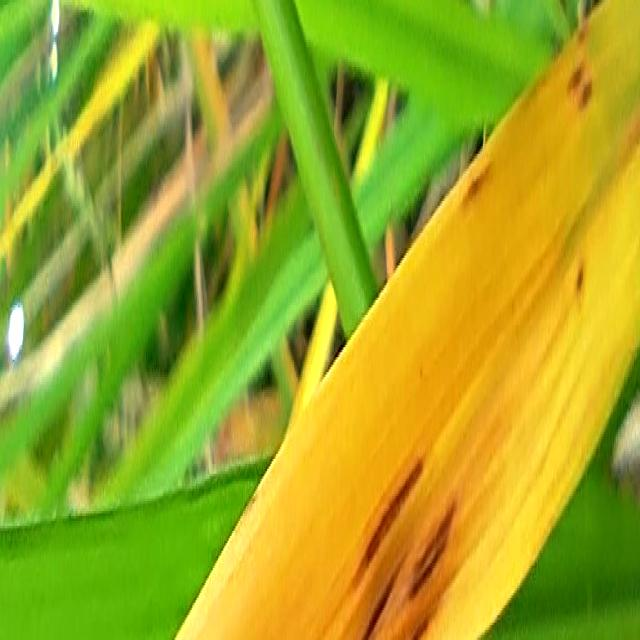NBS: (352, 452, 426, 593), (359, 553, 409, 640), (410, 506, 454, 595), (464, 162, 493, 206), (579, 76, 592, 112), (569, 64, 583, 91), (413, 618, 430, 640), (577, 260, 584, 295)
